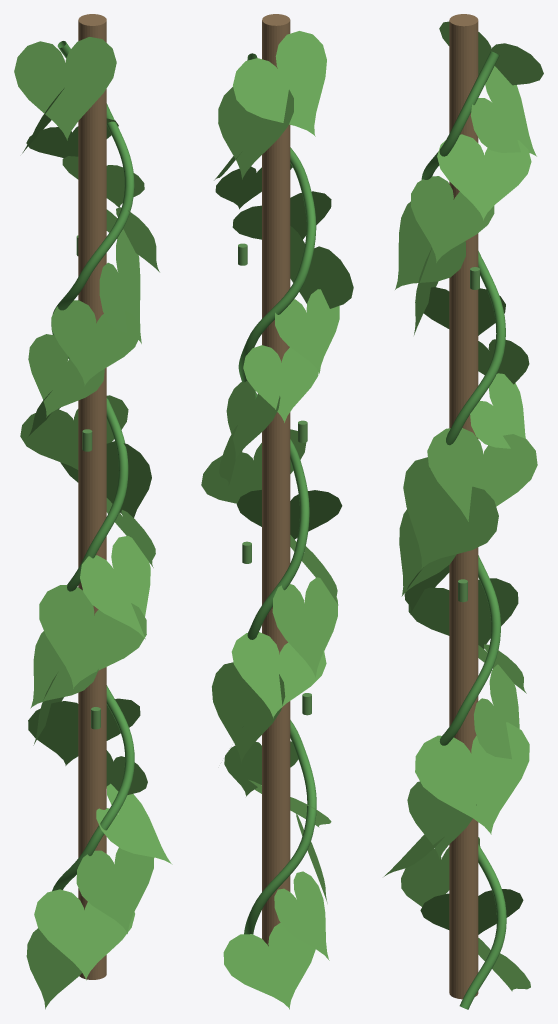
The model's file is yam_5.glb.
3 renders of one model, left to right at view 1: azimuth 90°, elevation 25°; view 2: azimuth 150°, elevation 25°; view 3: azimuth 270°, elevation 25°, orthographic. The views are drawn at different scales.
Visible parts, largest first — view 1: TrellisStake.003, Vine.003, UbeLeaf_21.001, UbeLeaf_08.003, UbeLeaf_01.003, UbeLeaf_09.002, UbeLeaf_15.002, UbeLeaf_02.003, UbeLeaf_14.002, UbeLeaf_16.001, UbeLeaf_12.002, UbeLeaf_05.003 (+10 smaller); view 2: TrellisStake.003, Vine.003, UbeLeaf_21.001, UbeLeaf_00.003, UbeLeaf_07.003, UbeLeaf_08.003, UbeLeaf_06.003, UbeLeaf_14.002, UbeLeaf_20.001, UbeLeaf_15.002, UbeLeaf_01.003, UbeLeaf_16.001 (+10 smaller); view 3: TrellisStake.003, Vine.003, UbeLeaf_05.003, UbeLeaf_12.002, UbeLeaf_11.002, UbeLeaf_19.001, UbeLeaf_18.001, UbeLeaf_20.001, UbeLeaf_17.001, UbeLeaf_08.003, UbeLeaf_06.003, UbeLeaf_13.002 (+12 smaller).
Part boxes in pixels (x1,y1,x2,y2): TrellisStake.003: (78, 14, 106, 979); Vine.003: (51, 41, 134, 891); UbeLeaf_21.001: (14, 37, 116, 140); UbeLeaf_08.003: (39, 585, 146, 688); UbeLeaf_01.003: (34, 889, 134, 980); UbeLeaf_09.002: (80, 536, 150, 639); UbeLeaf_15.002: (51, 300, 140, 385); UbeLeaf_02.003: (76, 847, 154, 933); UbeLeaf_14.002: (28, 334, 104, 417); UbeLeaf_16.001: (99, 229, 141, 343); UbeLeaf_12.002: (20, 395, 128, 469); UbeLeaf_05.003: (28, 698, 140, 765); TrellisStake.003: (262, 14, 290, 946); Vine.003: (238, 53, 316, 934); UbeLeaf_21.001: (233, 31, 326, 136); UbeLeaf_00.003: (223, 922, 315, 1009); UbeLeaf_07.003: (231, 632, 326, 718); UbeLeaf_08.003: (272, 577, 337, 677); UbeLeaf_06.003: (212, 662, 285, 763); UbeLeaf_14.002: (243, 345, 318, 422); UbeLeaf_20.001: (218, 87, 293, 179); UbeLeaf_15.002: (275, 289, 339, 373); UbeLeaf_01.003: (274, 871, 329, 960); UbeLeaf_16.001: (290, 226, 353, 308); TrellisStake.003: (449, 14, 478, 999); Vine.003: (421, 51, 506, 1009); UbeLeaf_05.003: (415, 722, 529, 834); UbeLeaf_12.002: (427, 428, 537, 521); UbeLeaf_11.002: (403, 457, 498, 569); UbeLeaf_19.001: (437, 134, 531, 220); UbeLeaf_18.001: (411, 176, 494, 262); UbeLeaf_20.001: (470, 66, 536, 156); UbeLeaf_17.001: (395, 201, 465, 289); UbeLeaf_08.003: (408, 578, 518, 649); UbeLeaf_06.003: (474, 664, 519, 759); UbeLeaf_13.002: (470, 373, 525, 448).
Size of the model in its own units: 0.378 by 2.65 by 0.3921.
